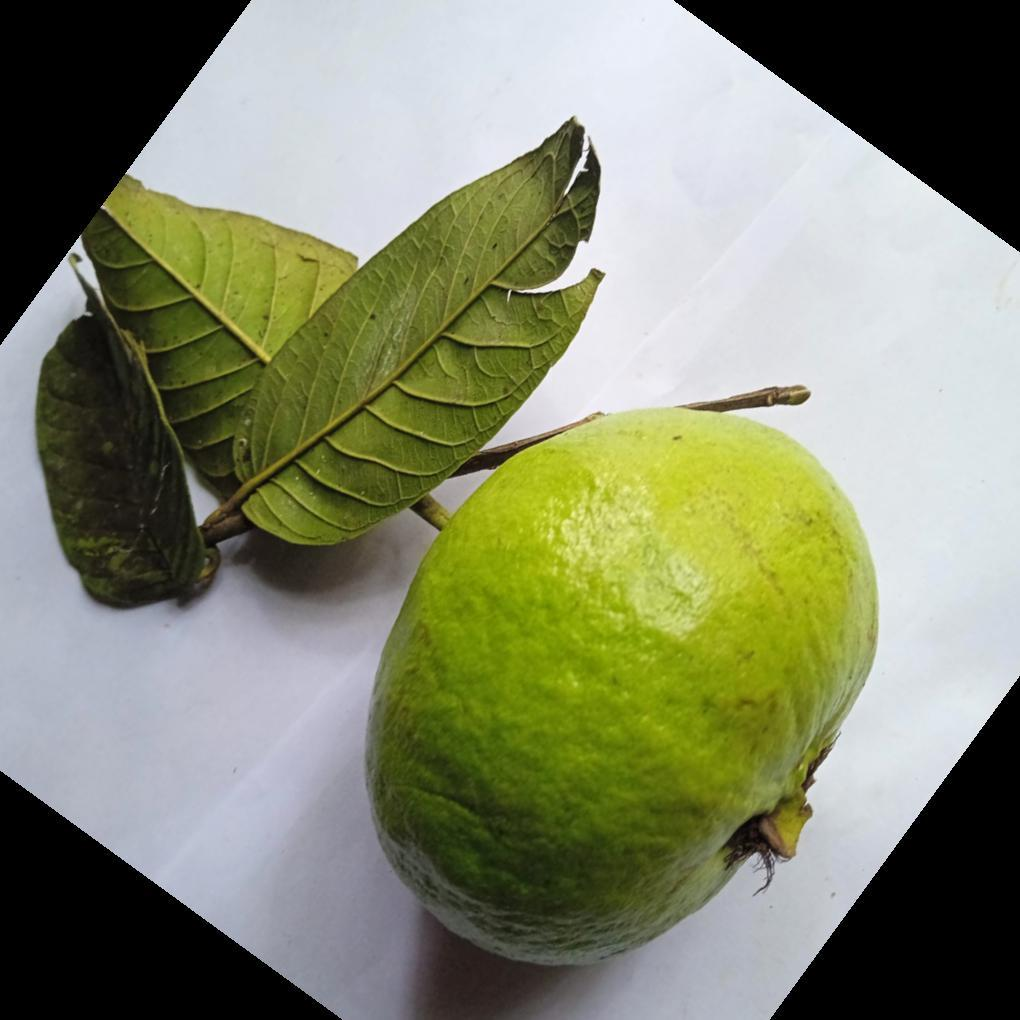FreshGuava: (362, 391, 880, 970)
